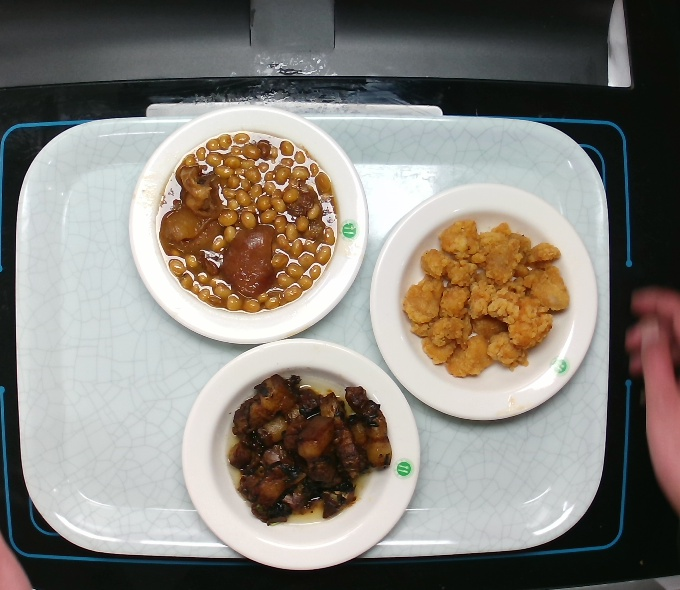wcq-GanCaiRou: (225, 370, 394, 529)
wcq-HuangDouZhuJiao: (147, 126, 344, 316)
wcq-JiMiHua: (398, 213, 575, 386)
